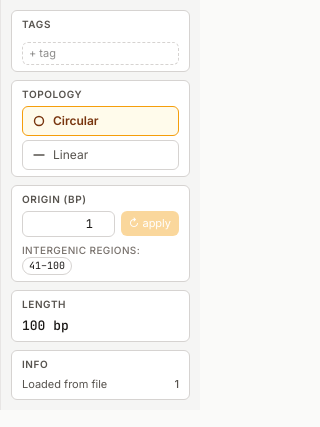
Test: M-B.2 K3 — MetaColumn › 4) apply rotates sequence + annotations and resets input back to 1
Replace the text in the number field with test id "importer-meta-origin-input" with "20" at (68, 224), box [22,210,115,236]
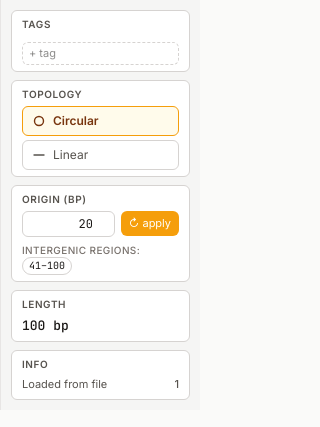
Click the button with test id "importer-meta-origin-apply" at (150, 224), box [121,211,179,236]
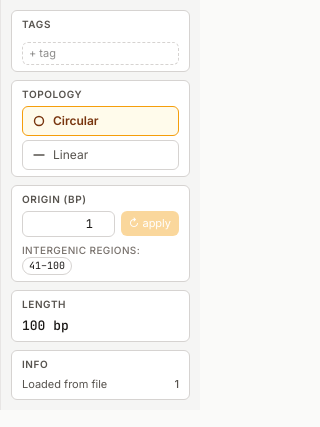
Now the number field with test id "importer-meta-origin-input" holds "1", box [22,210,115,236]
